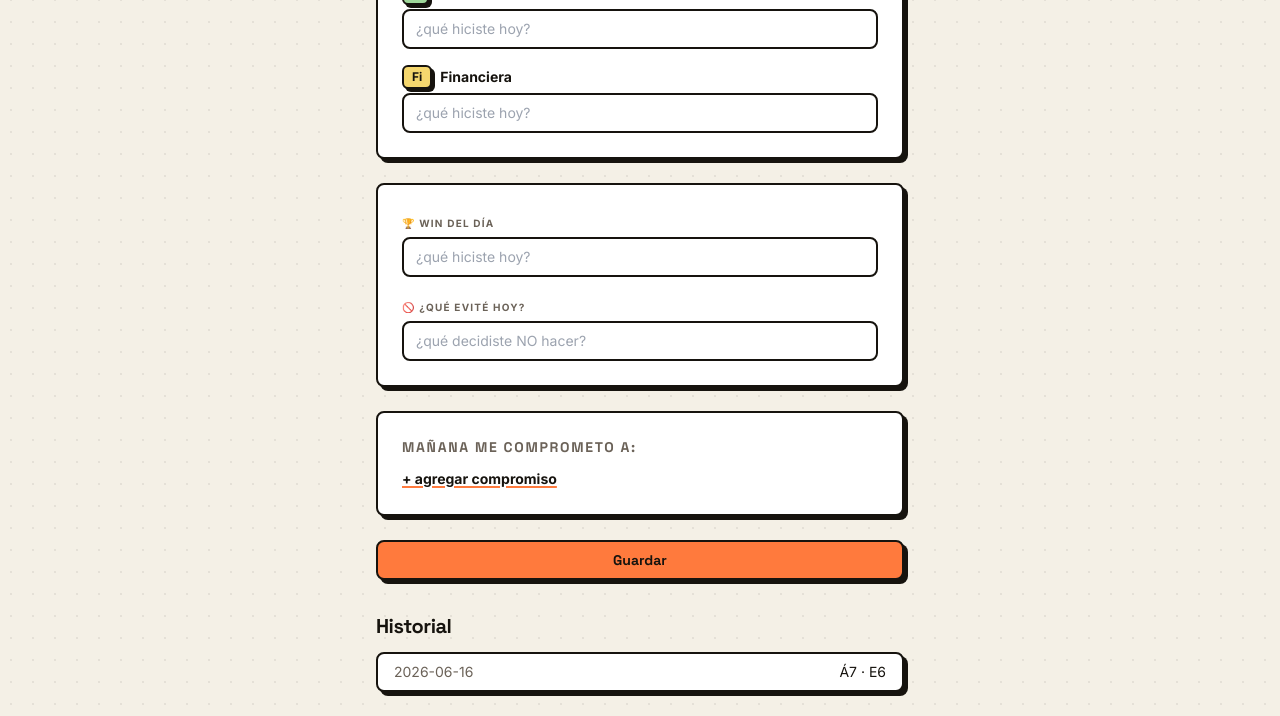
it: CheckInPage — detalle del día › toca una fila del historial y abre el modal con el detalle
(page scrolled)
Step 1. Click the button named "Ver detalle del 2026-06-16" → (640, 672), box [376,652,904,692]
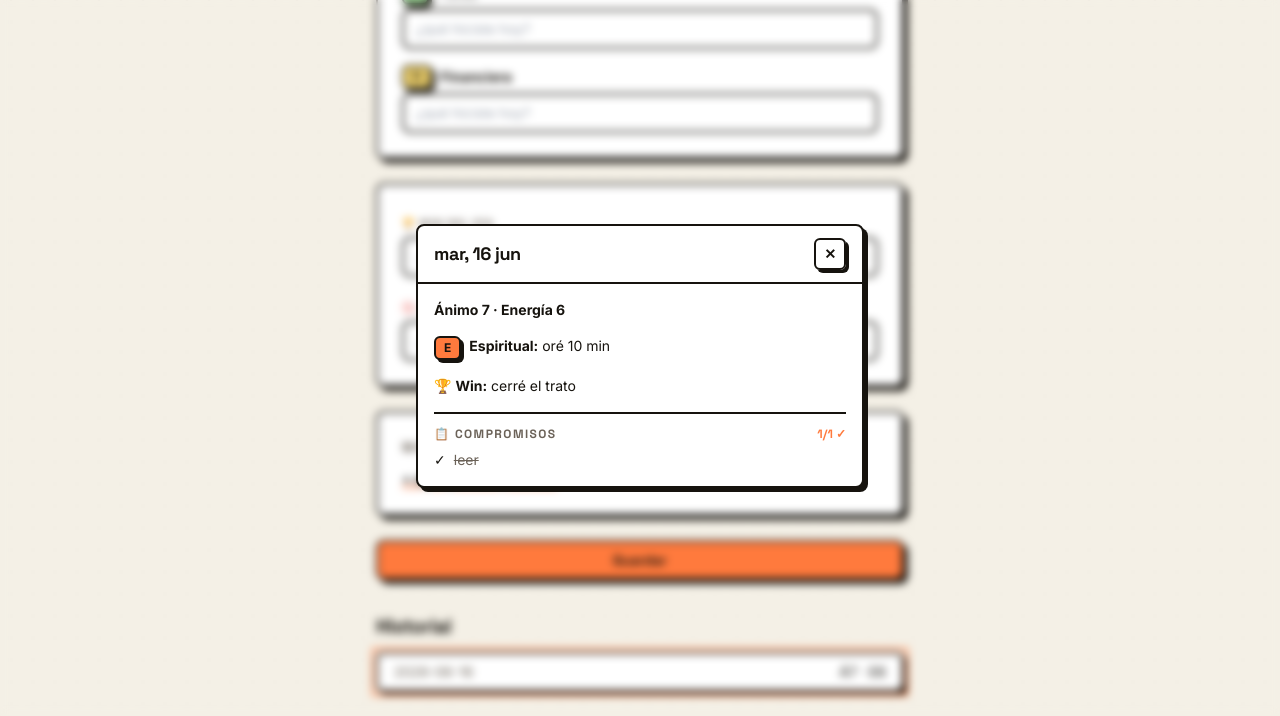
Now the text "Espiritual: oré 10 min" is shown, box [469,336,610,356]
Now the text "🏆 Win: cerré el trato" is shown, box [434,377,576,394]
Now the text "leer" is shown, box [454,450,479,470]
